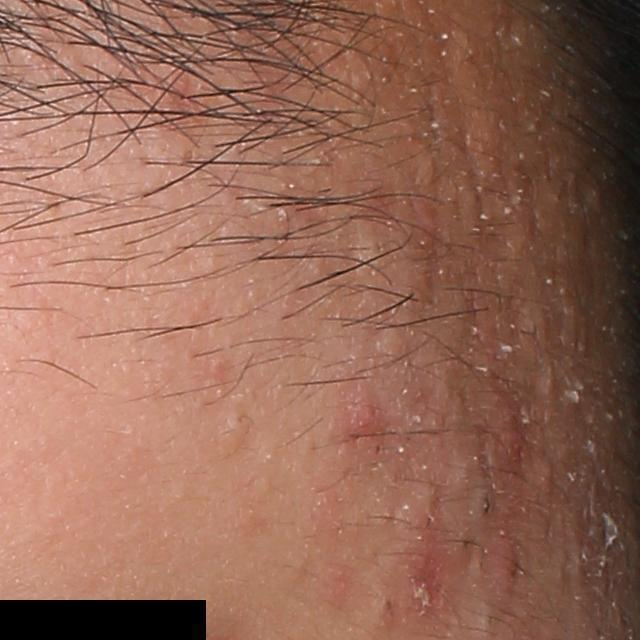papule: (488, 421, 533, 481), (488, 535, 527, 588), (344, 399, 382, 435)
